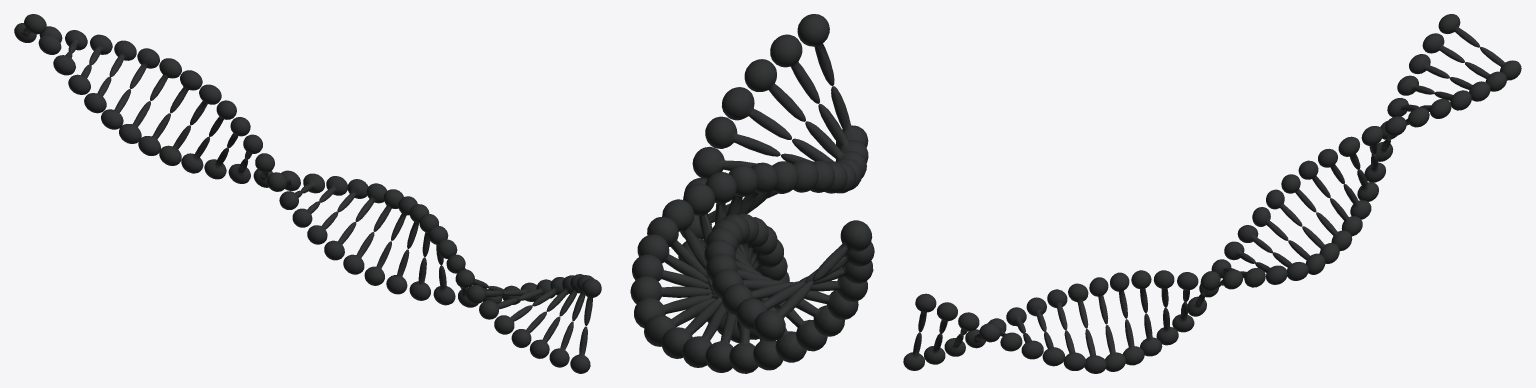
The model's file is dna.glb.
The picture shows the model from 3 angles, left to right: view 1: azimuth 30°, elevation 25°; view 2: azimuth 150°, elevation 25°; view 3: azimuth 270°, elevation 25°; orthographic projection. The views are drawn at different scales.
Visible parts, largest first — view 1: DNA; view 2: DNA; view 3: DNA.
Boxes of the visible parts, x1,y1,x2,y2 form: DNA: (14, 14, 601, 373); DNA: (630, 14, 874, 373); DNA: (903, 14, 1521, 373).
Bounding box in the file's own units: 2048 × 1416 × 3460.
Materials: 1 (1 with a texture image).
